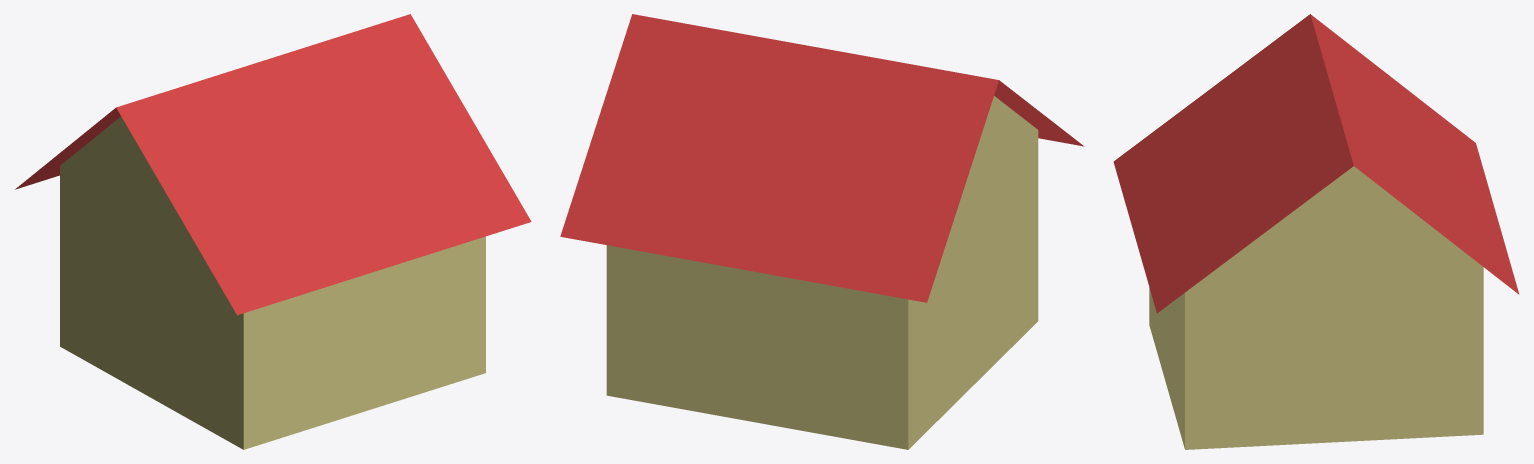
3 renders of one model, left to right at view 1: azimuth 30°, elevation 25°; view 2: azimuth 150°, elevation 25°; view 3: azimuth 270°, elevation 25°, orthographic. The views are drawn at different scales.
Size of the model in its own units: 18.81 by 18.92 by 14.86.
